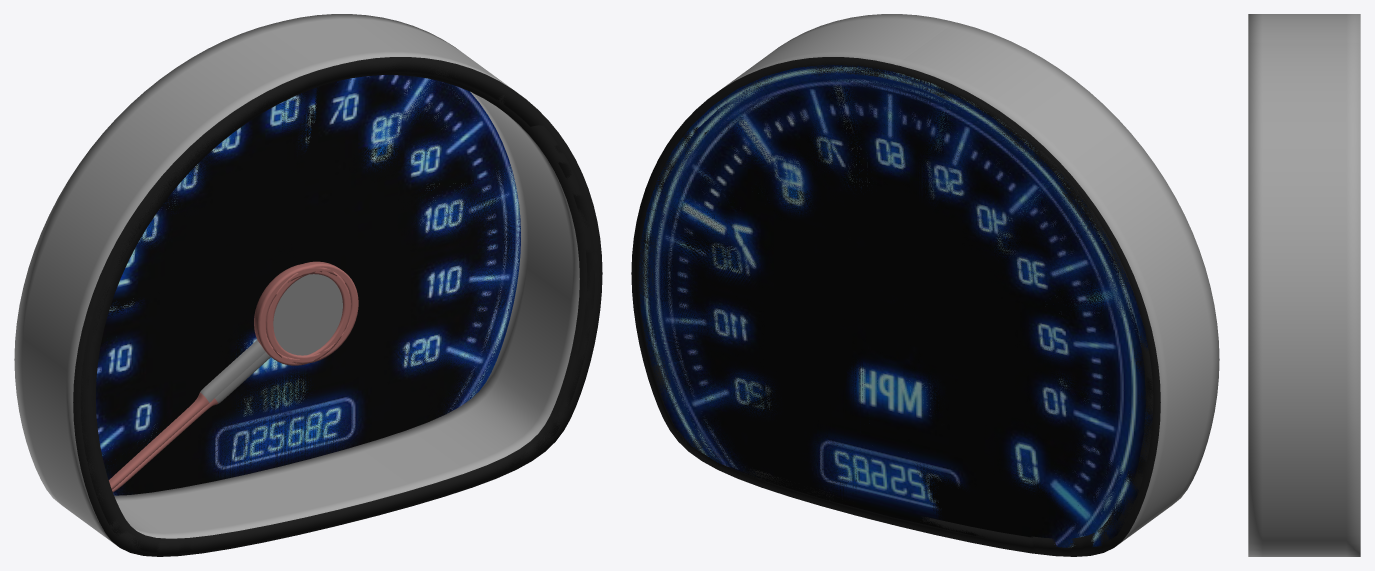
File: dashBoard.obj
3 views of the same model, side by side, from view 1: azimuth 30°, elevation 25°; view 2: azimuth 150°, elevation 25°; view 3: azimuth 270°, elevation 25° (orthographic). The views are drawn at different scales.
Visible parts, largest first — view 1: SpeedometerDialFace_Circle.012, RevCounterEnclosure_TachEnclosure, SpeedometerEnclosure_TachEnclosure, RevCounterDialFace_Circle.012, RevCounterHand_Circle.007, SpeedometerHand; view 2: SpeedometerDialFace_Circle.012, RevCounterDialFace_Circle.012, RevCounterEnclosure_TachEnclosure, SpeedometerEnclosure_TachEnclosure; view 3: SpeedometerEnclosure_TachEnclosure, RevCounterEnclosure_TachEnclosure.
Part boxes in pixels (x1,y1,x2,y2): SpeedometerDialFace_Circle.012: (96, 75, 520, 495); RevCounterEnclosure_TachEnclosure: (14, 22, 594, 556); SpeedometerEnclosure_TachEnclosure: (80, 14, 602, 554); RevCounterDialFace_Circle.012: (96, 76, 520, 495); RevCounterHand_Circle.007: (109, 264, 351, 489); SpeedometerHand: (112, 261, 358, 492); SpeedometerDialFace_Circle.012: (638, 64, 1146, 547); RevCounterDialFace_Circle.012: (646, 66, 1152, 546); RevCounterEnclosure_TachEnclosure: (639, 22, 1219, 556); SpeedometerEnclosure_TachEnclosure: (631, 14, 1153, 554); SpeedometerEnclosure_TachEnclosure: (1248, 42, 1360, 556); RevCounterEnclosure_TachEnclosure: (1248, 14, 1360, 42).
Size of the model in its own units: 2.09 by 1.73 by 0.4004.
Materials: 9 (2 with a texture image).
